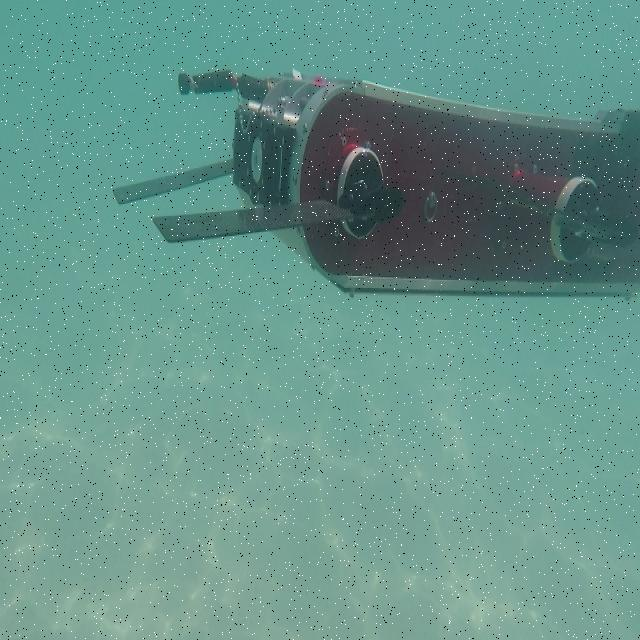robots: (112, 68, 639, 299)
